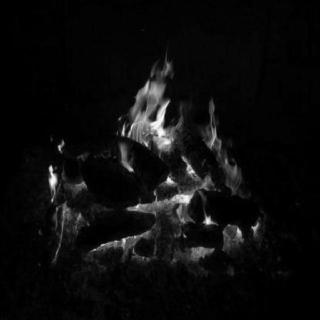Fire: (87, 186, 273, 276), (120, 59, 176, 163), (202, 88, 245, 191), (41, 138, 69, 208)
